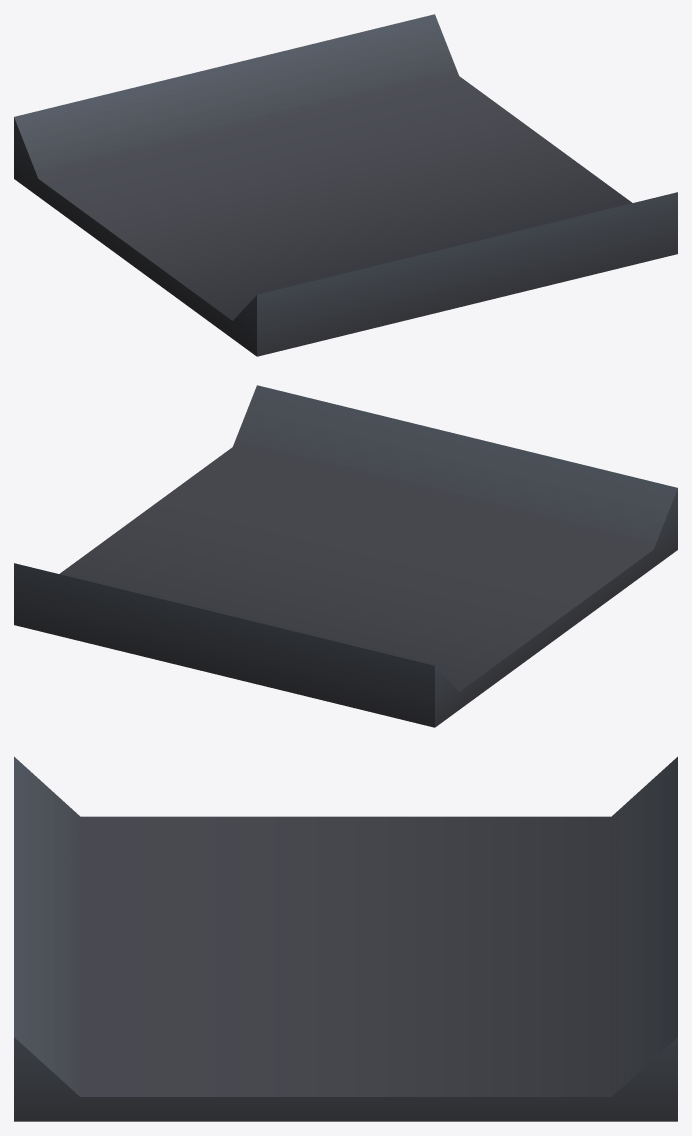
Rendered from roof-high-flat.glb.
3 views of the same model, one above another, from view 1: azimuth 30°, elevation 25°; view 2: azimuth 150°, elevation 25°; view 3: azimuth 270°, elevation 25° (orthographic). The views are drawn at different scales.
Parts seen in each view (by area): view 1: roof-high-flat; view 2: roof-high-flat; view 3: roof-high-flat.
Part boxes in pixels (box(x1,y1,x2,y2)): roof-high-flat: box(14, 14, 677, 356); roof-high-flat: box(14, 385, 677, 727); roof-high-flat: box(14, 756, 677, 1121).
Bounding box in the file's own units: 1 × 0.1407 × 1.
1 material, 1 textured.
